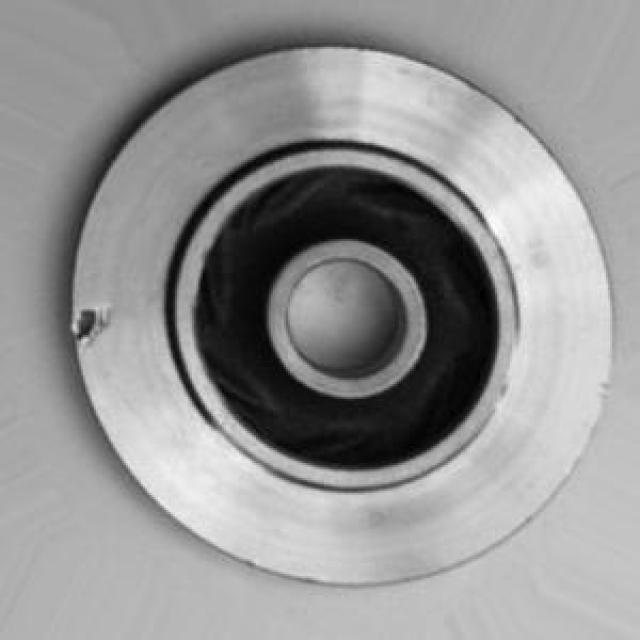Defect: (73, 292, 119, 357)
